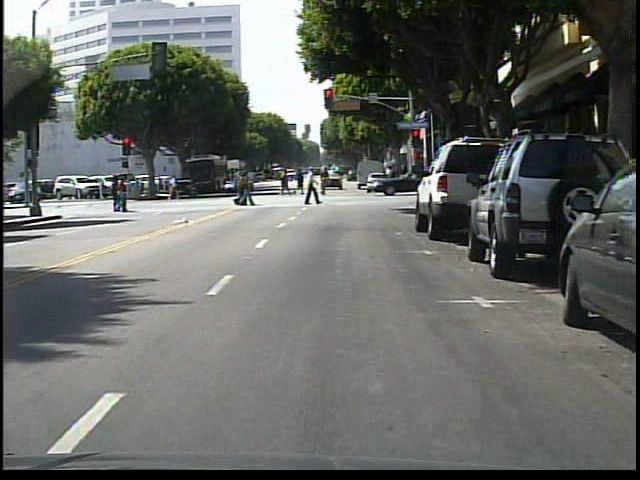person: (300, 165, 322, 209), (166, 169, 185, 199), (317, 167, 334, 196)
